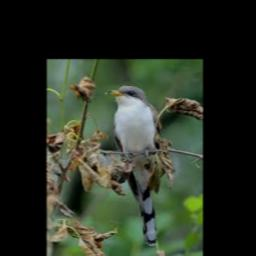Cuckoo: (105, 85, 161, 247)
